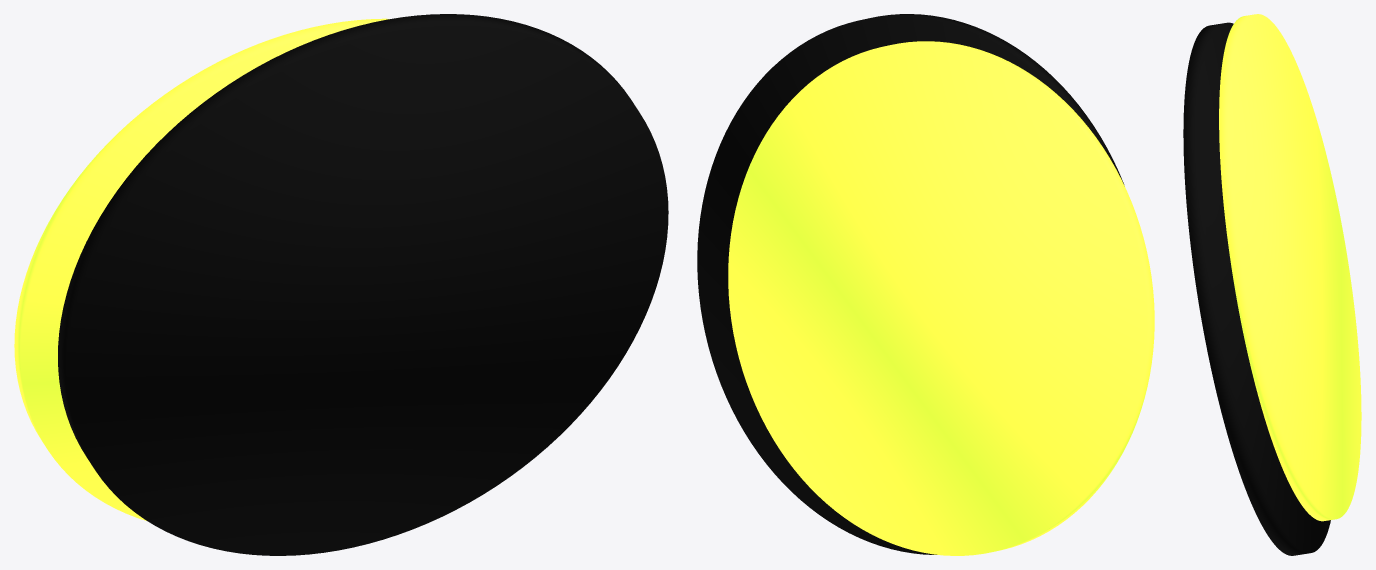
File: monaka_shoku.glb
The picture shows the model from 3 angles, left to right: view 1: azimuth 30°, elevation 25°; view 2: azimuth 150°, elevation 25°; view 3: azimuth 270°, elevation 25°; orthographic projection. The views are drawn at different scales.
Parts seen in each view (by area): view 1: moon, sun; view 2: sun, moon; view 3: sun, moon.
Boxes of the visible parts, left/top/right/bottom form: moon: left=58, top=14, right=668, bottom=555; sun: left=14, top=18, right=389, bottom=520; sun: left=728, top=41, right=1154, bottom=555; moon: left=697, top=14, right=1124, bottom=554; sun: left=1219, top=14, right=1361, bottom=521; moon: left=1183, top=22, right=1330, bottom=555.
Bounding box in the file's own units: 2.19 × 2.06 × 0.6963.
